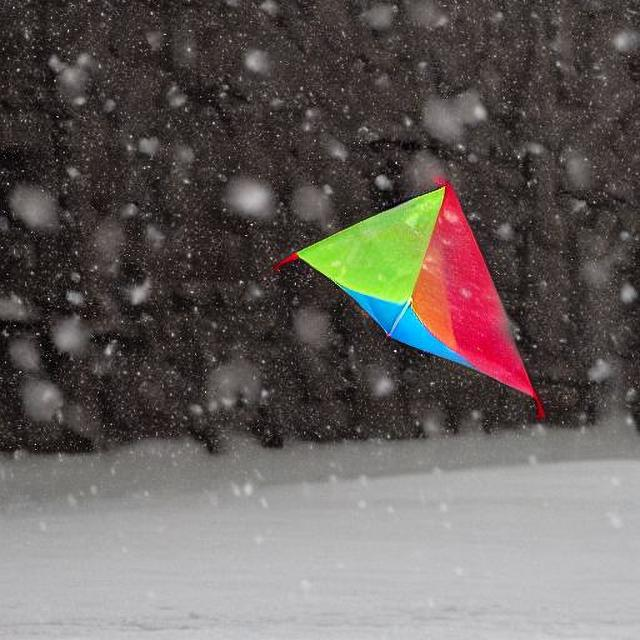floating object: (282, 172, 541, 424)
